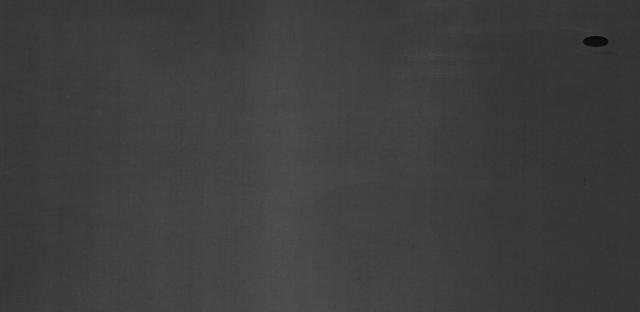punching_hole: (581, 31, 615, 50)
